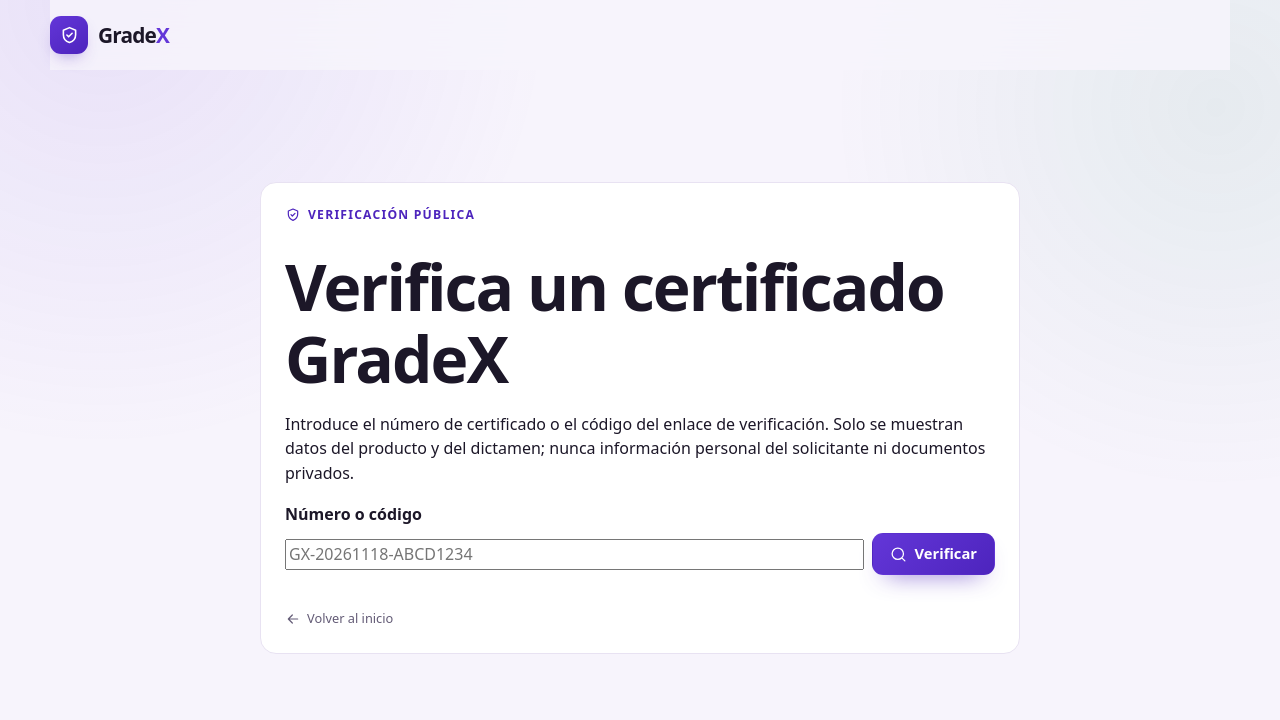
Test case: VerifyCertificatePage › verifica por número y muestra el dictamen no auténtico
In the field labelled "Número o código": (574, 554) x1=285 y1=539 x2=864 y2=570, type "GX-20261125-NOAUTH01"
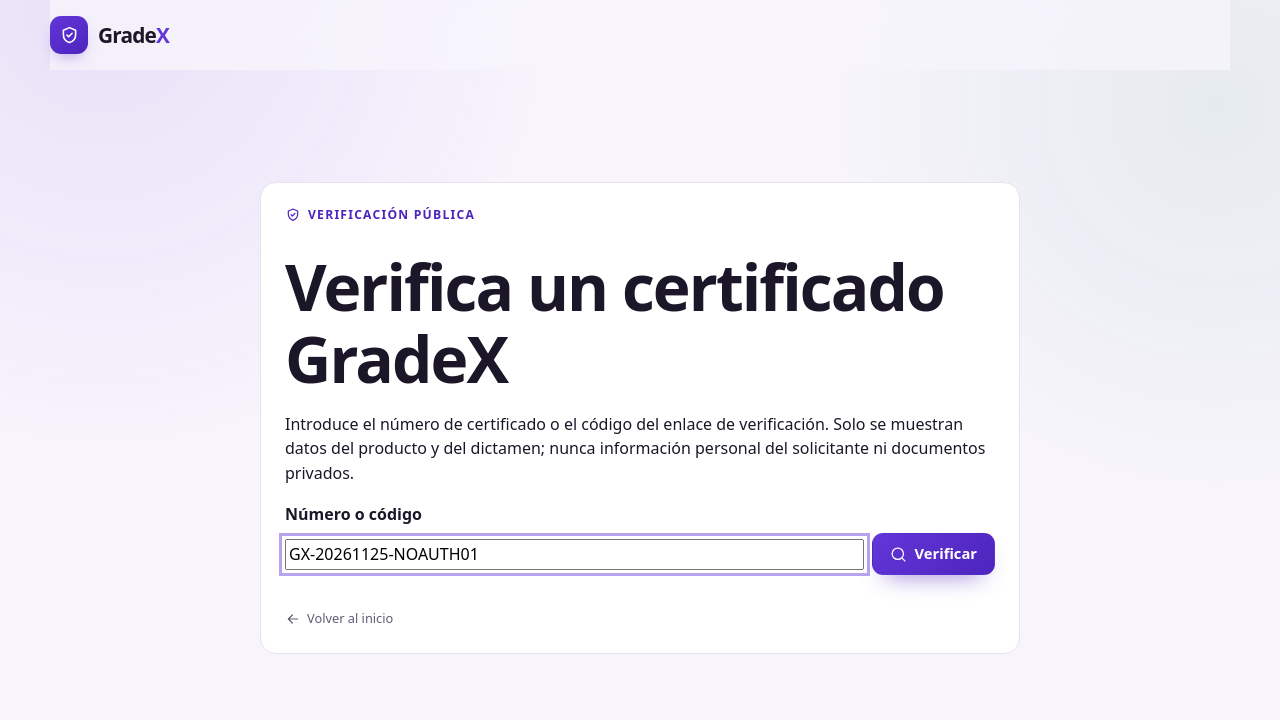
Click the button "Verificar": (933, 554) x1=872 y1=533 x2=995 y2=575
(page scrolled)
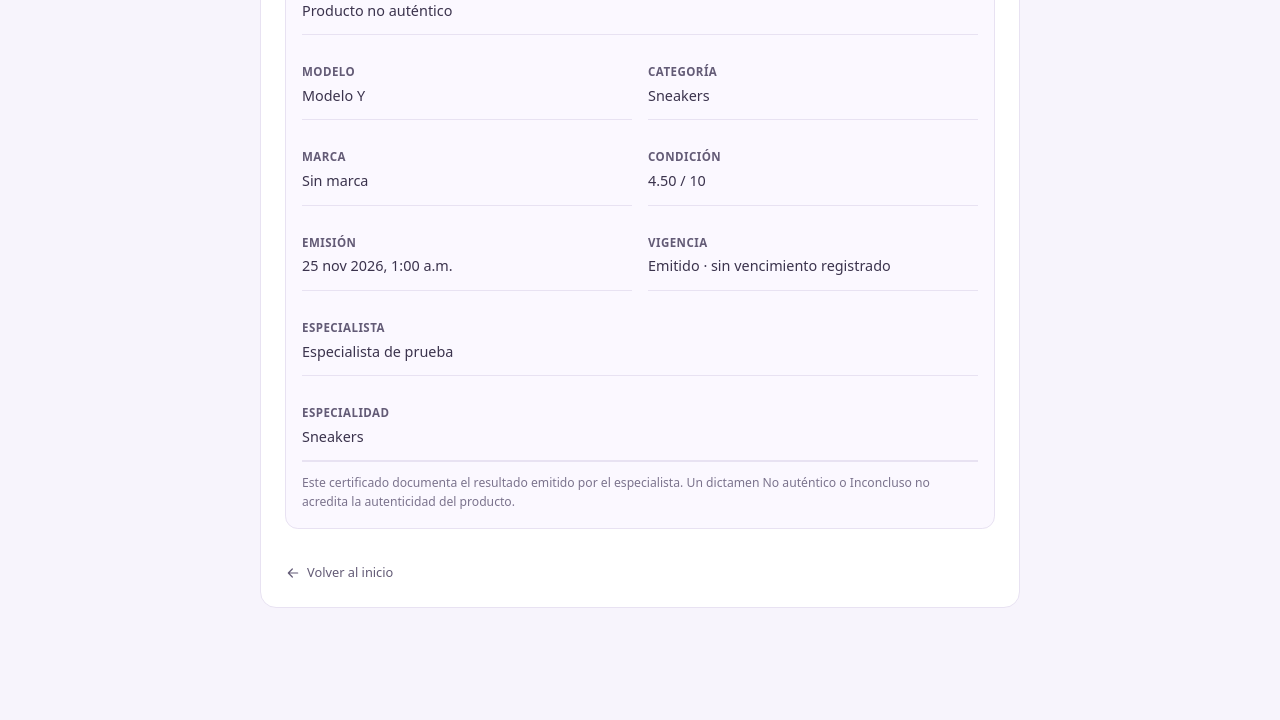
Check: the text "4.50 / 10" is shown, box x1=648 y1=171 x2=706 y2=190
Check: the text "no acredita la autenticidad" is shown, box x1=302 y1=474 x2=930 y2=510
